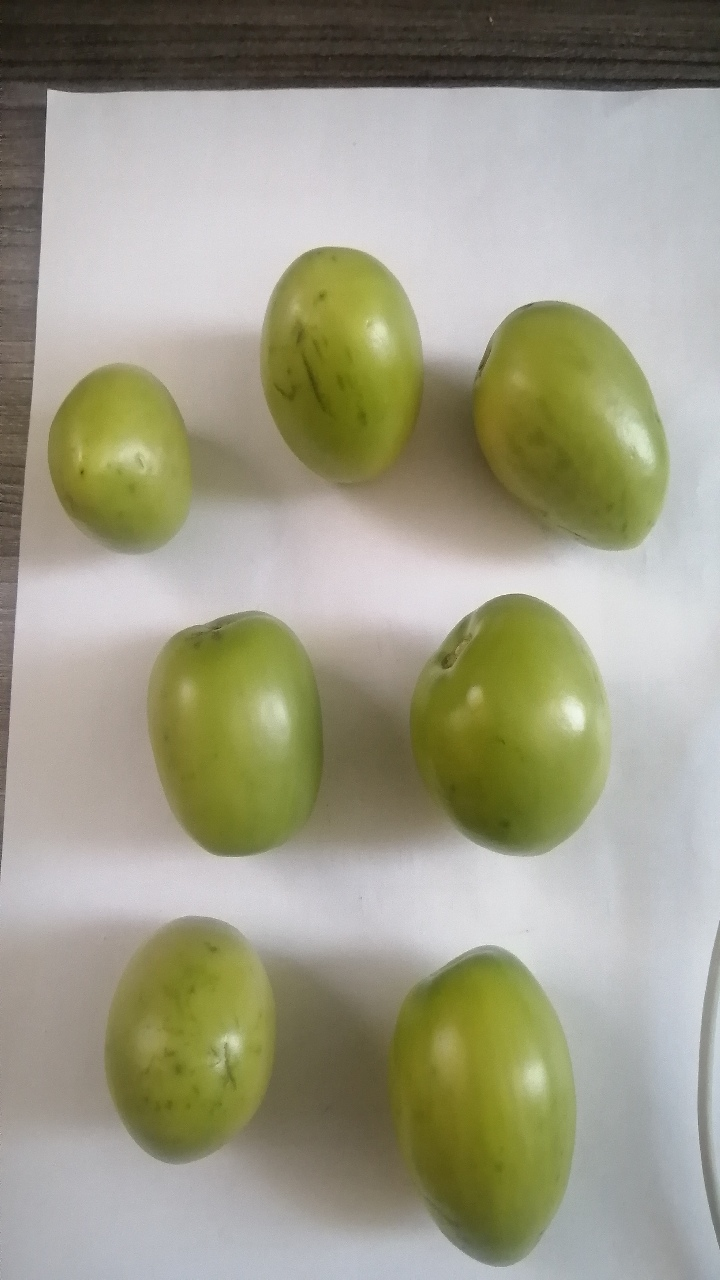tomateVerde: (357, 929, 609, 1280), (397, 580, 620, 874), (468, 289, 691, 583), (92, 906, 301, 1185), (131, 588, 332, 863), (241, 234, 428, 505), (26, 345, 218, 566)
